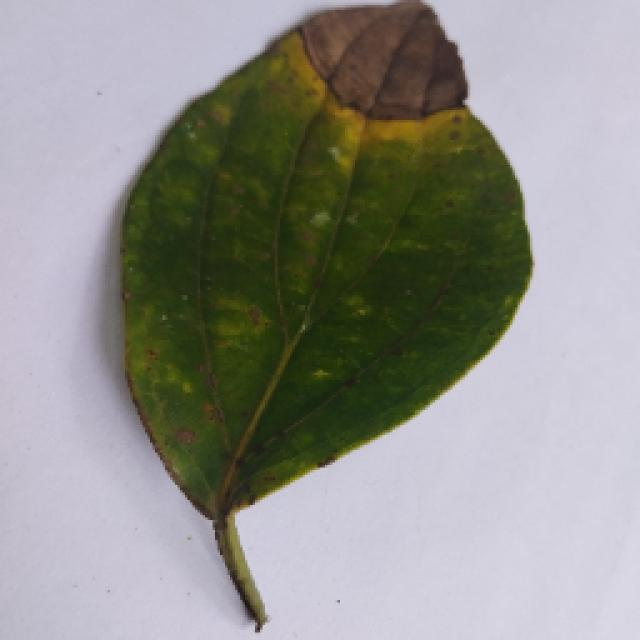footrot: (58, 18, 560, 632)
